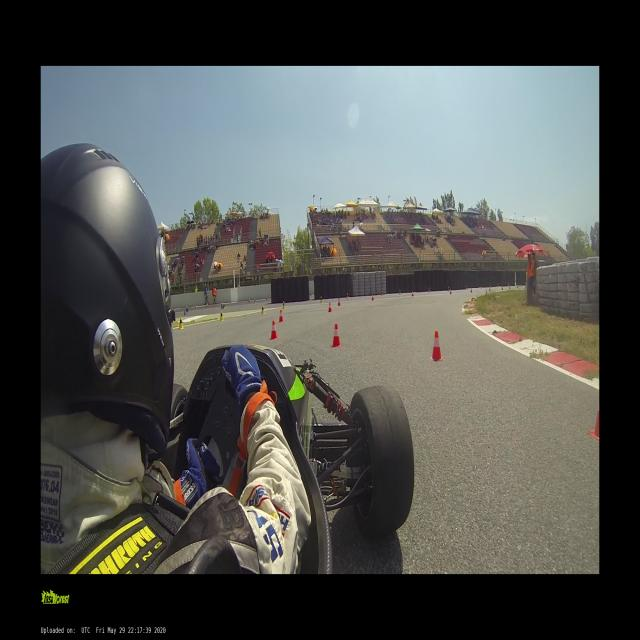orange_cone: (588, 367, 599, 442), (430, 331, 443, 360), (331, 323, 342, 348), (270, 320, 278, 340), (279, 310, 284, 322), (328, 302, 332, 313), (338, 298, 340, 306), (372, 294, 374, 301), (412, 290, 414, 296), (450, 288, 452, 294), (195, 304, 197, 309), (266, 296, 268, 300), (502, 285, 503, 290), (249, 298, 250, 302), (471, 288, 472, 292), (489, 286, 490, 290), (517, 284, 518, 288), (510, 285, 510, 288)
yellow_cone: (261, 305, 265, 314), (220, 310, 223, 322), (180, 317, 183, 329), (283, 301, 285, 309), (254, 298, 256, 304), (321, 297, 322, 303), (347, 293, 348, 299), (518, 283, 520, 286), (382, 291, 383, 296), (448, 286, 449, 291), (224, 304, 225, 308), (428, 288, 429, 292), (467, 286, 468, 290), (481, 284, 482, 288), (490, 284, 491, 288), (508, 283, 509, 286), (400, 290, 400, 294), (498, 283, 498, 287)
